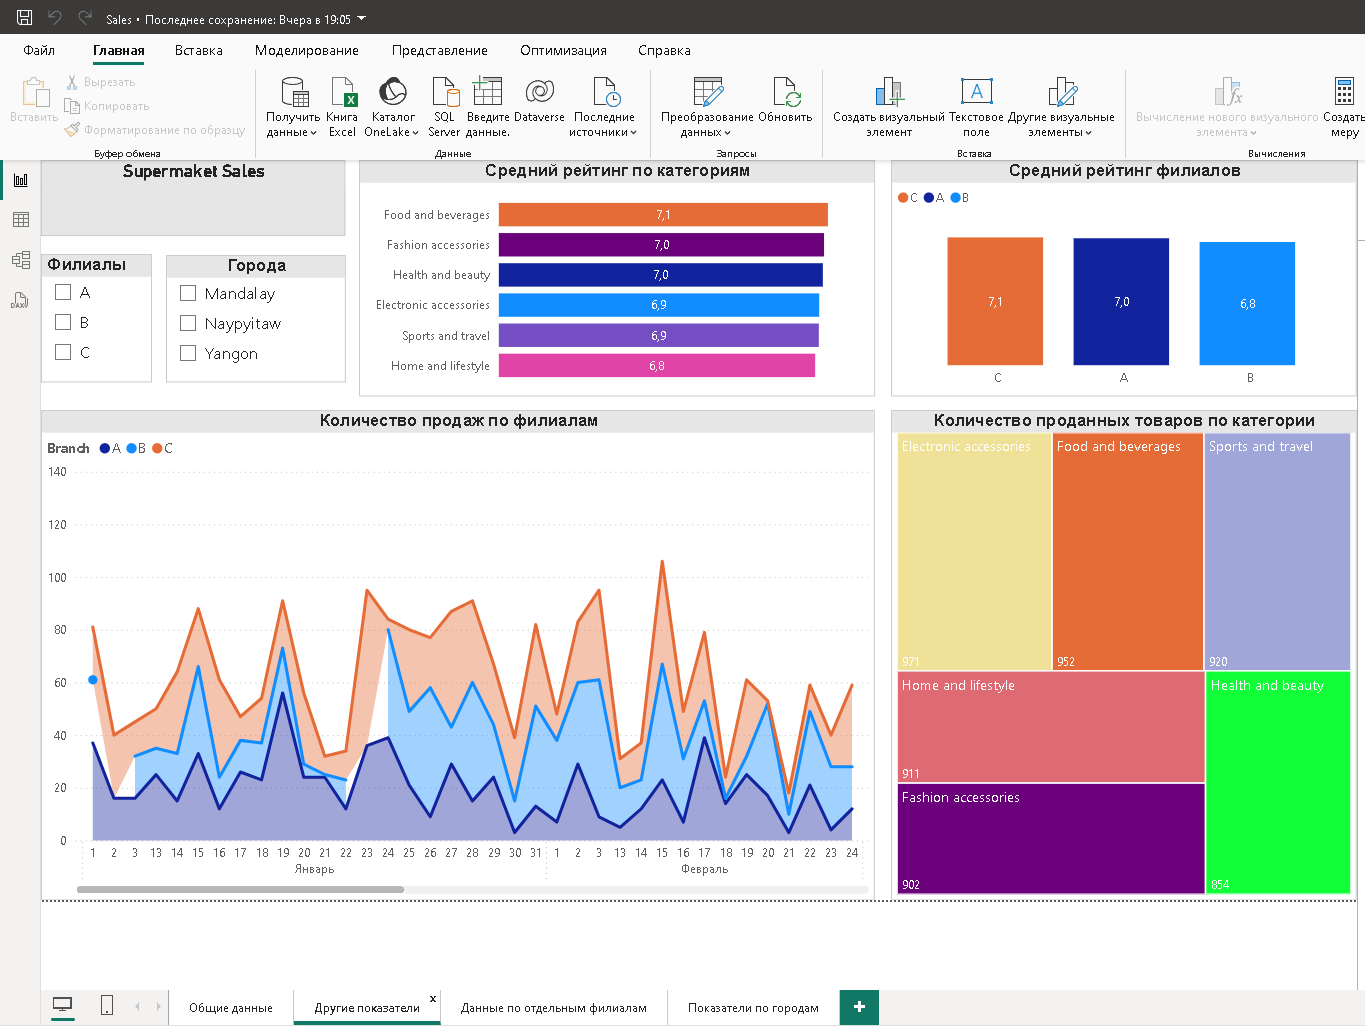

What the dashboard file says about the page in this screenshot:
{"tool":"powerbi","page":{"name":"Другие показатели","canvas":[1280,720],"ordinal":1},"visuals":[{"type":"textbox","title":"Supermaket Sales","box":[0,0,296.2,73.8],"z":0},{"type":"barChart","title":"Средний рейтинг по категориям","fields":{"Category":["Sheet1.Product line"],"Y":["Avg(Sheet1.Rating)"],"Series":["Sheet1.Product line"]},"box":[309.3,0,502,229.6],"z":1},{"type":"columnChart","title":"Средний рейтинг филиалов","fields":{"Y":["Avg(Sheet1.Rating)"],"Category":["Sheet1.Branch"],"Series":["Sheet1.Branch"]},"box":[826.8,0,453.2,229.6],"z":2},{"type":"stackedAreaChart","title":"Количество продаж по филиалам","fields":{"Series":["Sheet1.Branch"],"Category":["Sheet1.Date.Изменение.Иерархия дат.Месяц","Sheet1.Date.Изменение.Иерархия дат.День"],"Y":["Sum(Sheet1.Quantity)"]},"box":[0,242.7,811.3,477],"z":3},{"type":"slicer","title":"Филиалы","fields":{"Values":["Sheet1.Branch"]},"box":[0,91.6,108.3,124.9],"z":4},{"type":"slicer","title":"Города","fields":{"Values":["Sheet1.City"]},"box":[121.3,92.8,174.9,123.7],"z":5},{"type":"treemap","title":"Количество проданных товаров по категории","fields":{"Group":["Sheet1.Product line"],"Values":["Sum(Sheet1.Quantity)"]},"box":[826.8,242.7,453.2,477],"z":6}]}

Visuals, with their boxes on the page's 1280x720 design canvas (x1, y1, x2, y2). These are canvas units, not pixel positions in the 1365x1026 screenshot, which may show the page scaled, cropped or inside an application window:
"Supermaket Sales" textbox: box=[0, 0, 296, 74]
"Средний рейтинг по категориям" barChart: box=[309, 0, 811, 230]
"Средний рейтинг филиалов" columnChart: box=[827, 0, 1280, 230]
"Количество продаж по филиалам" stackedAreaChart: box=[0, 243, 811, 720]
"Филиалы" slicer: box=[0, 92, 108, 216]
"Города" slicer: box=[121, 93, 296, 216]
"Количество проданных товаров по категории" treemap: box=[827, 243, 1280, 720]
